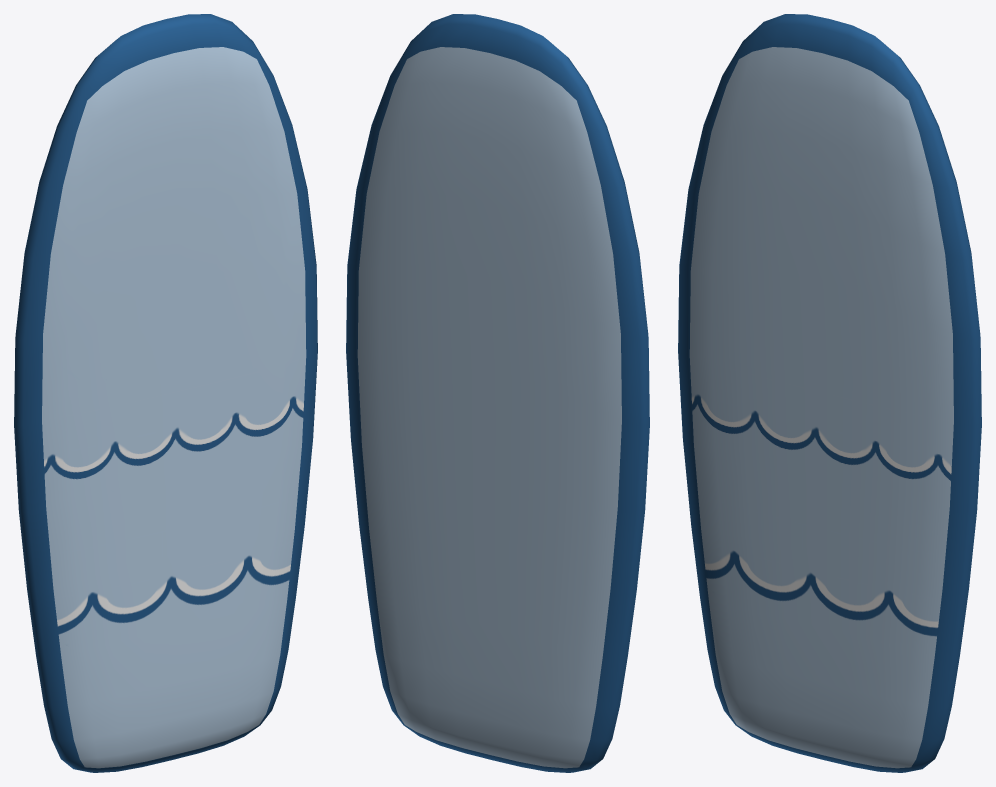
Rendered from Surfboard.fbx.
The picture shows the model from 3 angles, left to right: view 1: azimuth 30°, elevation 25°; view 2: azimuth 150°, elevation 25°; view 3: azimuth 330°, elevation 25°; orthographic projection.
Visible parts, largest first — view 1: Cube; view 2: Cube; view 3: Cube.
Boxes of the visible parts, bbox=[...] form: Cube: bbox=[14, 14, 317, 772]; Cube: bbox=[346, 14, 649, 772]; Cube: bbox=[678, 14, 981, 772].
Size of the model in its own units: 72.14 by 168 by 10.01.
Materials: 1 (1 with a texture image).
